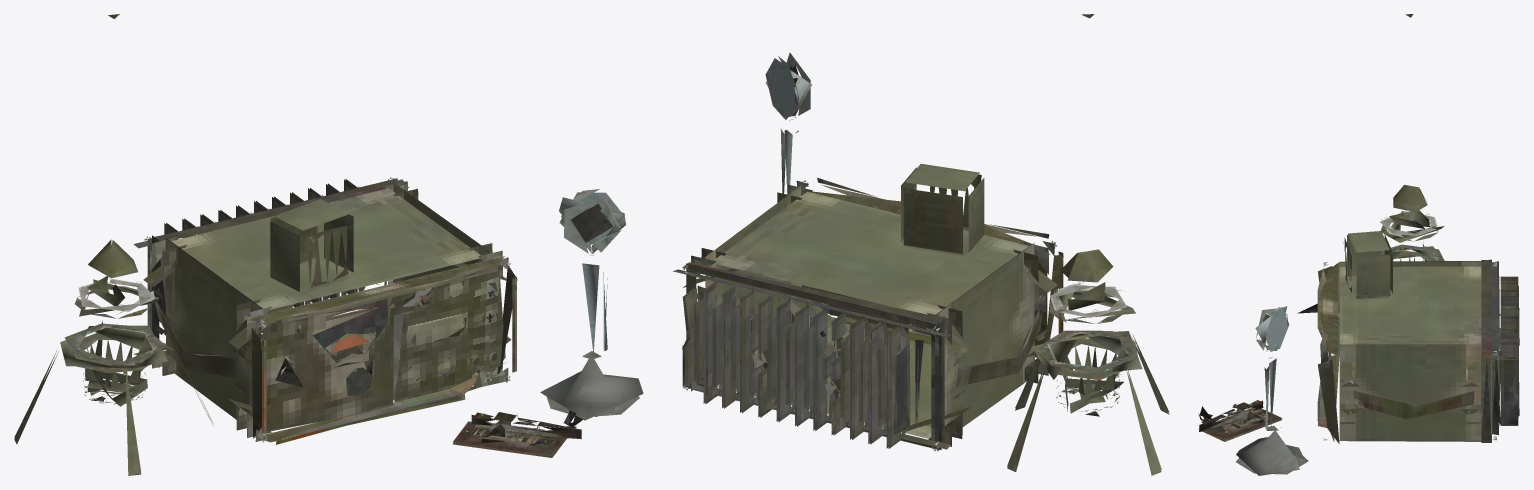
The model's file is vintage_radio_transceiver.glb.
3 renders of one model, left to right at view 1: azimuth 30°, elevation 25°; view 2: azimuth 150°, elevation 25°; view 3: azimuth 270°, elevation 25°, orthographic. The views are drawn at different scales.
Parts seen in each view (by area): view 1: vintage_radio_transceiver; view 2: vintage_radio_transceiver; view 3: vintage_radio_transceiver.
Boxes of the visible parts, <box> form: vintage_radio_transceiver: <box>14,14,643,475</box>; vintage_radio_transceiver: <box>673,14,1169,475</box>; vintage_radio_transceiver: <box>1198,14,1519,475</box>.
Size of the model in its own units: 0.5668 by 0.4402 by 0.4117.
Materials: 2 (2 with a texture image).
